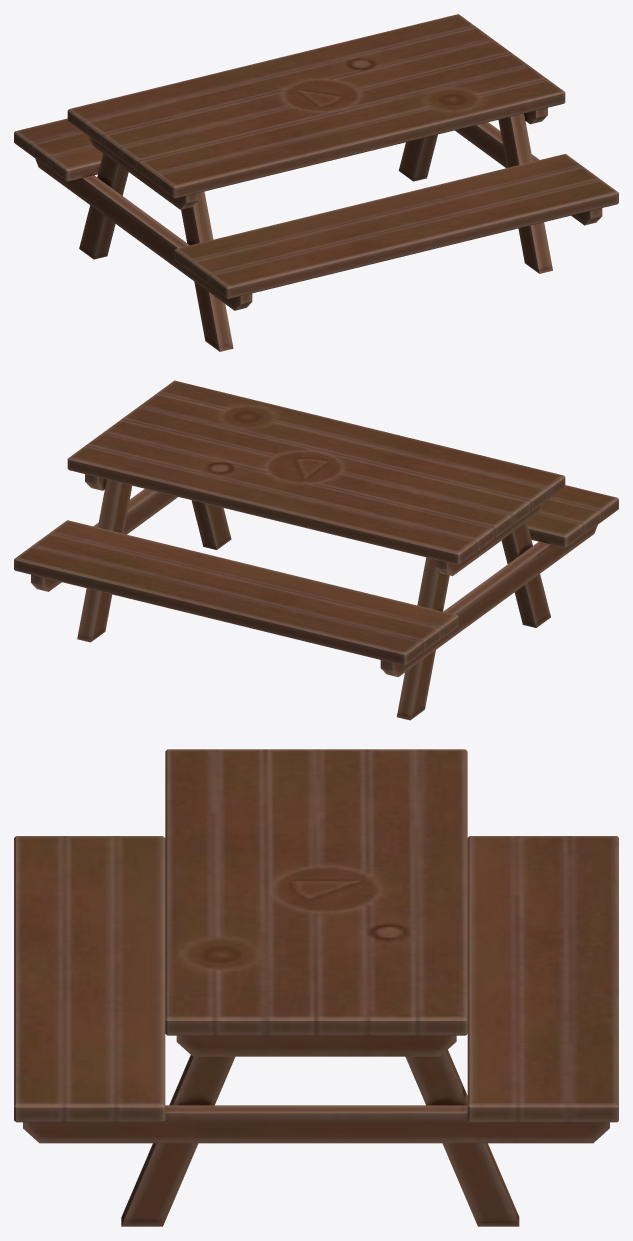
Rendered from benchi2.glb.
3 renders of one model, top to bottom at view 1: azimuth 30°, elevation 25°; view 2: azimuth 150°, elevation 25°; view 3: azimuth 270°, elevation 25°, orthographic. The views are drawn at different scales.
Parts seen in each view (by area): view 1: bench_low; view 2: bench_low; view 3: bench_low.
Part boxes in pixels (x1=…): bench_low: x1=14, y1=14, x2=618, y2=351; bench_low: x1=14, y1=380, x2=618, y2=720; bench_low: x1=14, y1=749, x2=618, y2=1226.
Size of the model in its own units: 0.9217 by 0.3611 by 0.8714.
1 material, 1 textured.
